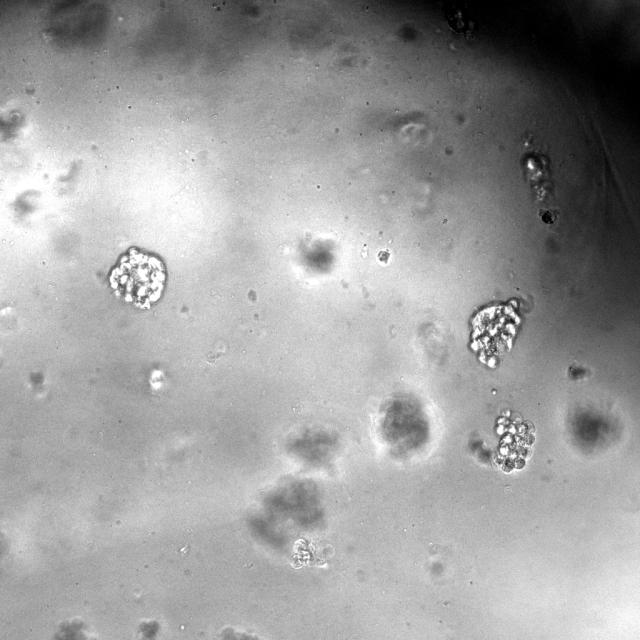organoid: (469, 297, 522, 368), (109, 247, 167, 309), (493, 410, 535, 472), (521, 151, 552, 202), (289, 538, 334, 569), (539, 208, 559, 224)
